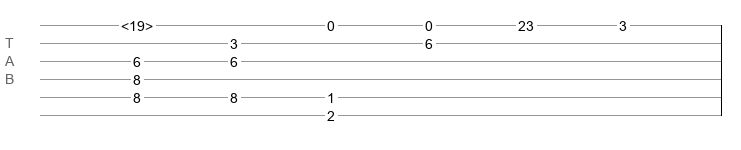0: (327, 18, 335, 28), (425, 18, 433, 28)
1: (327, 90, 335, 100)
2: (327, 108, 335, 118)
23: (518, 18, 534, 28)
3: (230, 36, 238, 46), (619, 18, 627, 28)
6: (133, 54, 141, 64), (230, 54, 238, 64), (425, 36, 433, 46)
8: (133, 90, 141, 100), (133, 72, 141, 82), (230, 90, 238, 100)
harmonic: (121, 18, 153, 28)
